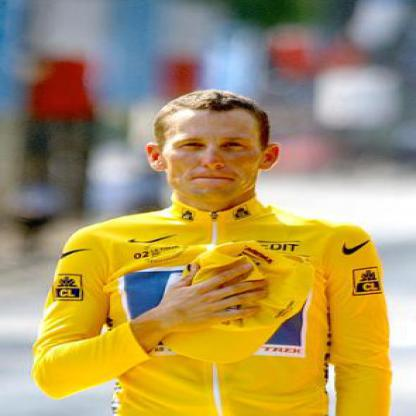face: (160, 93, 266, 203)
